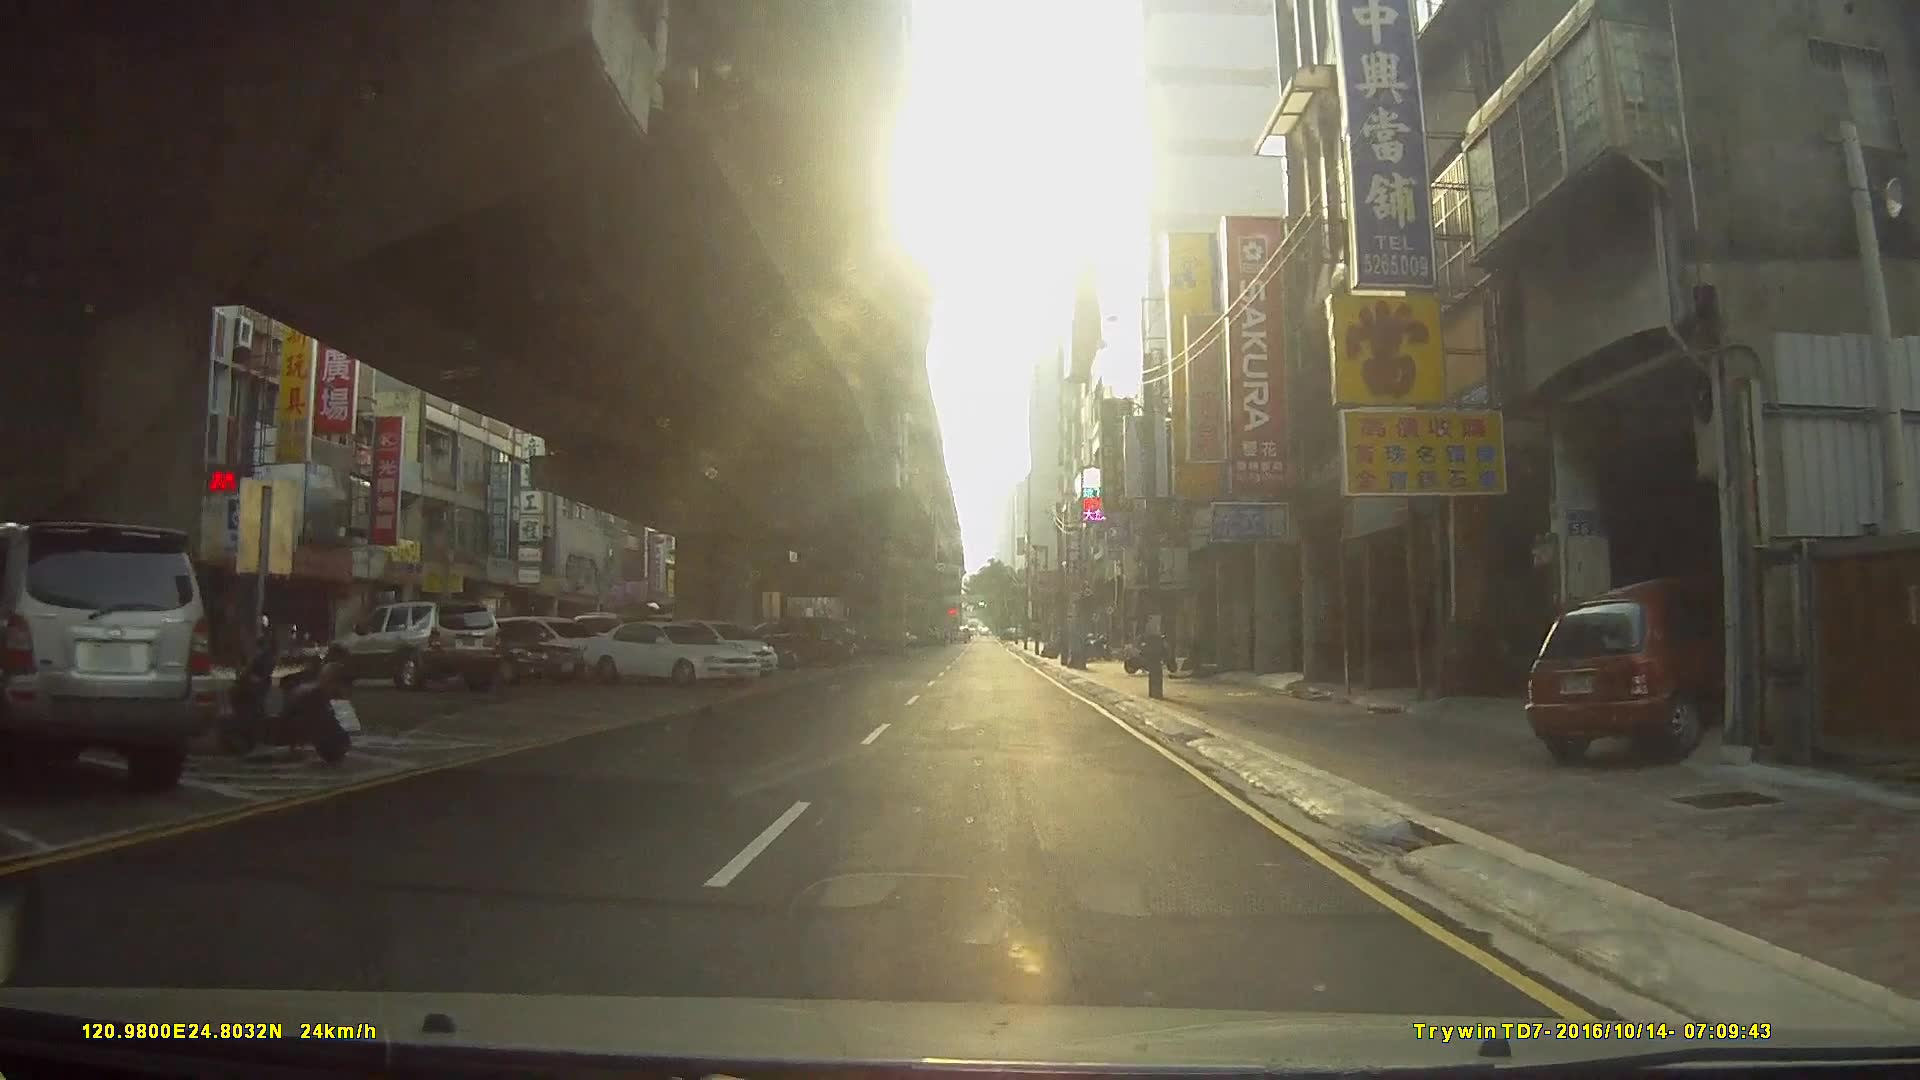vehicle: (0, 522, 214, 798), (1523, 572, 1760, 764), (324, 600, 502, 692), (407, 617, 585, 686), (579, 622, 764, 687)
